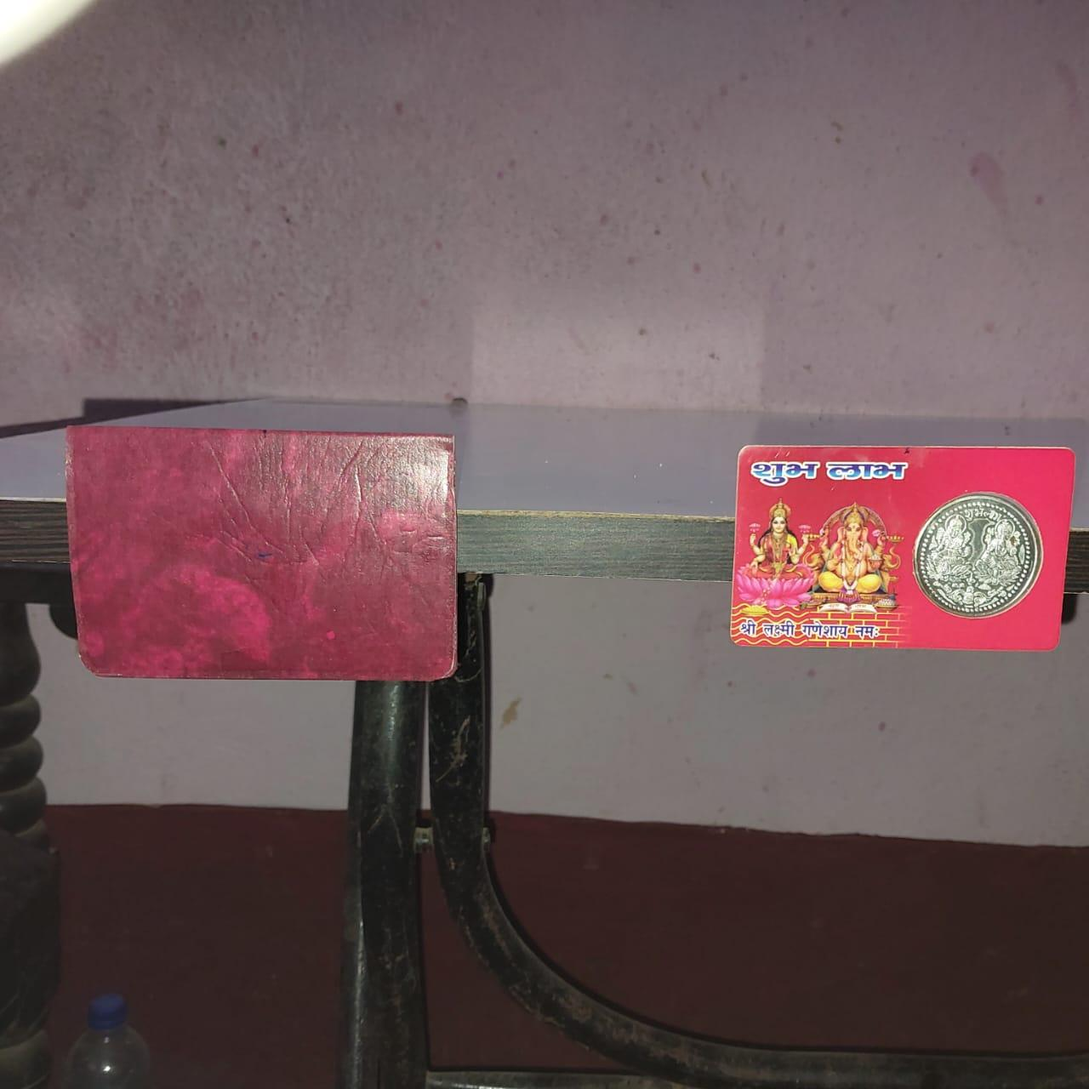blessing_card: (728, 444, 1074, 652)
wallet: (66, 427, 464, 687)
